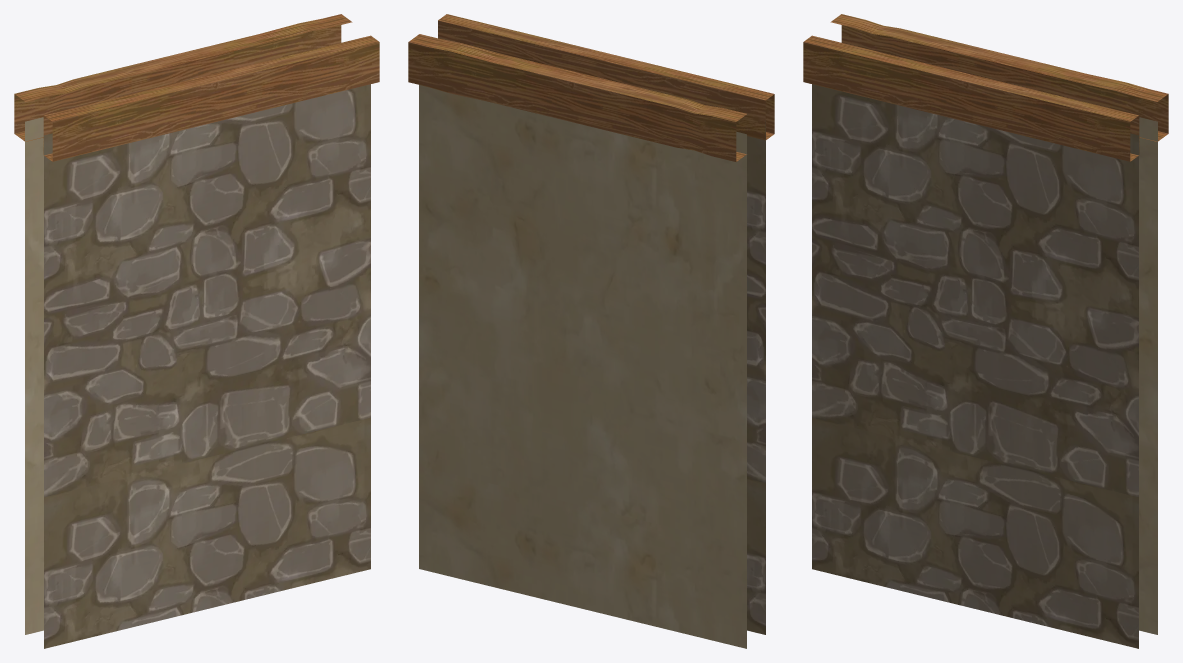
Rendered from Wall_UnevenBrick_Straight.glb.
3 renders of one model, left to right at view 1: azimuth 30°, elevation 25°; view 2: azimuth 150°, elevation 25°; view 3: azimuth 330°, elevation 25°, orthographic.
Parts seen in each view (by area): view 1: Wall_UnevenBrick_Straight; view 2: Wall_UnevenBrick_Straight; view 3: Wall_UnevenBrick_Straight.
Boxes of the visible parts, bbox=[...] form: Wall_UnevenBrick_Straight: bbox=[14, 14, 379, 648]; Wall_UnevenBrick_Straight: bbox=[408, 14, 774, 648]; Wall_UnevenBrick_Straight: bbox=[803, 14, 1168, 648].
Size of the model in its own units: 2 by 3.12 by 0.4065.
Materials: 3 (3 with a texture image).
